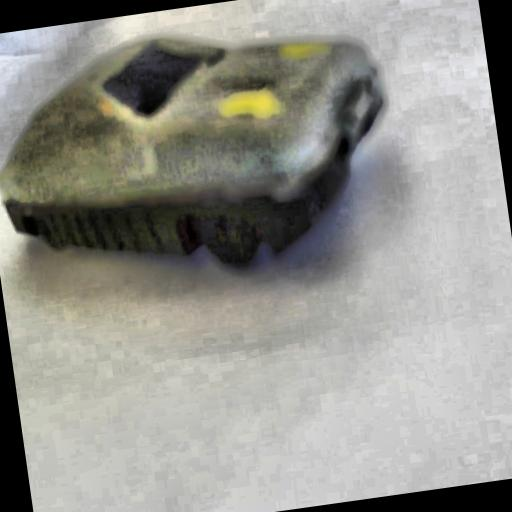normal_car: (0, 0, 410, 305)
